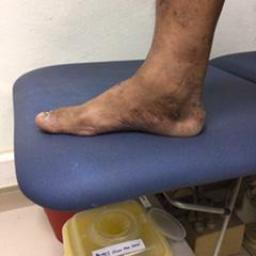Medial View -Right Foot-: (32, 46, 218, 149)
